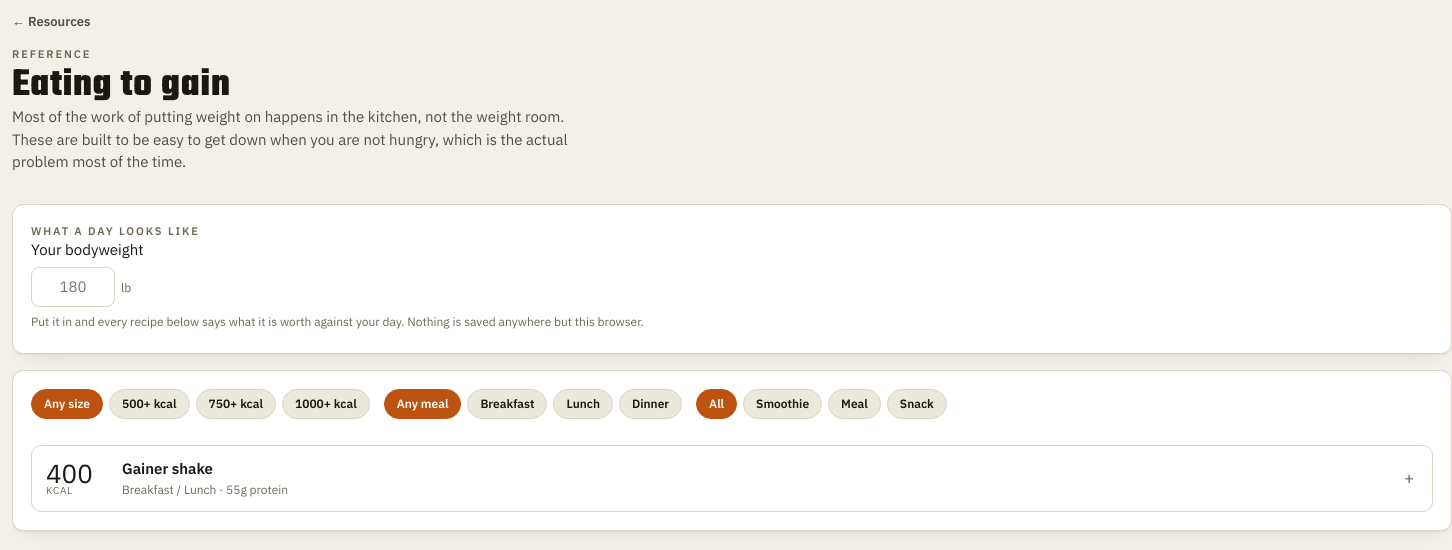
Test case: a filter that matches nothing says so rather than showing a blank
The width and height of the screenshot is (1452, 550).
Click the button "1000+ kcal". click: coordinates (326, 404)
box: [282,389,370,419]
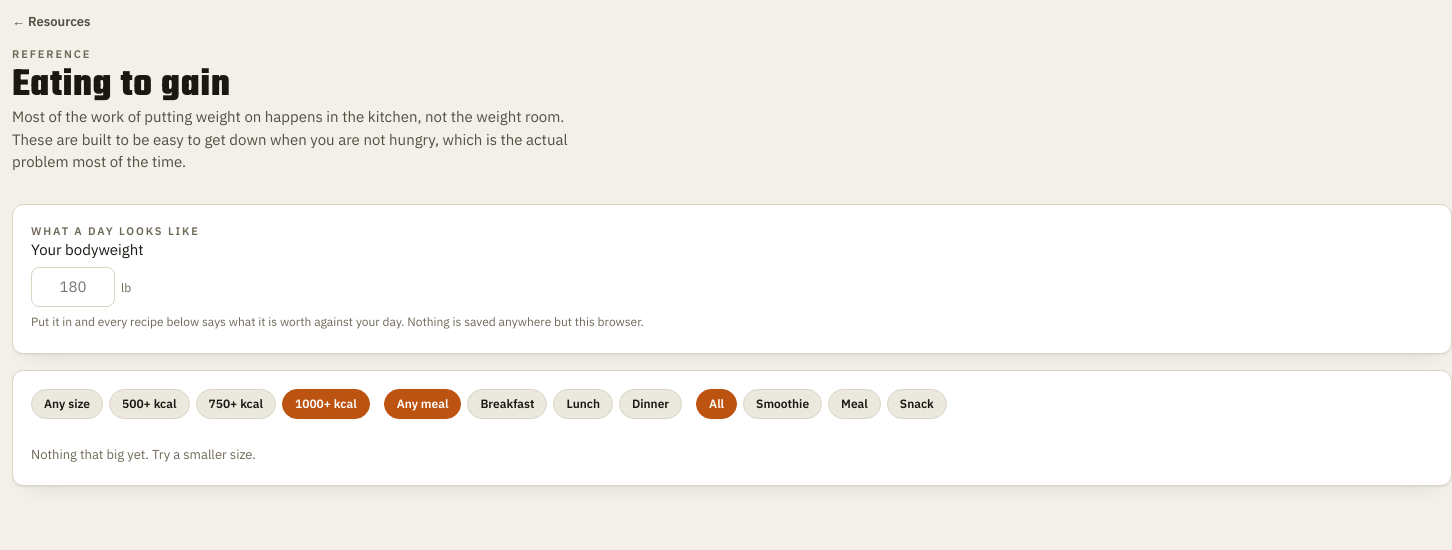
expect the text "Nothing that big yet. Try a smaller size." is shown: met, box [31,446,256,463]
